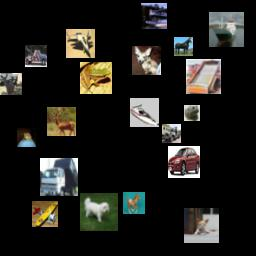airplane: (66, 29, 95, 58), (141, 3, 167, 29), (32, 201, 58, 227)
automobile: (168, 146, 200, 178)
deer: (47, 107, 76, 136), (0, 73, 22, 95)
dog: (80, 193, 118, 231), (184, 208, 219, 243), (132, 46, 161, 75)
frog: (80, 62, 112, 94), (17, 128, 36, 147), (184, 105, 200, 121)
ship: (209, 12, 244, 47), (130, 98, 159, 127)
truck: (40, 158, 78, 196), (186, 59, 221, 94), (25, 45, 47, 67), (162, 124, 181, 143)
